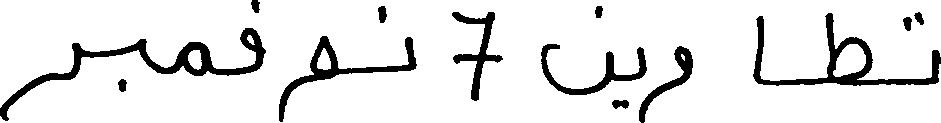X: (541, 1, 613, 111), (0, 38, 80, 122), (277, 31, 336, 122), (451, 7, 502, 105), (823, 8, 872, 90), (648, 41, 691, 110), (240, 0, 263, 78), (181, 37, 208, 80), (752, 11, 763, 89), (638, 42, 646, 122), (407, 32, 417, 75), (932, 45, 940, 88), (138, 34, 144, 65)
